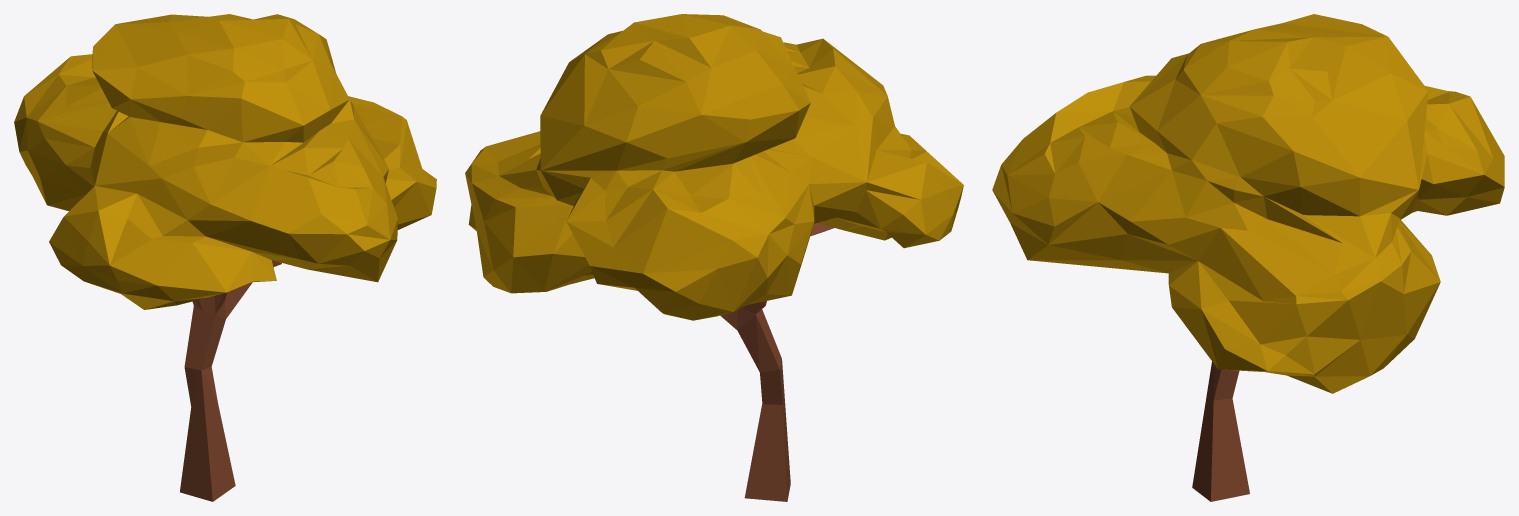
File: village_pack_tree1.glb
3 views of the same model, side by side, from view 1: azimuth 30°, elevation 25°; view 2: azimuth 150°, elevation 25°; view 3: azimuth 270°, elevation 25° (orthographic). The views are drawn at different scales.
Visible parts, largest first — view 1: tree 1_wood 1_0; view 2: tree 1_wood 1_0; view 3: tree 1_wood 1_0.
Part boxes in pixels (bbox=[...]): tree 1_wood 1_0: bbox=[14, 14, 436, 501]; tree 1_wood 1_0: bbox=[465, 14, 963, 501]; tree 1_wood 1_0: bbox=[992, 14, 1504, 501].
Size of the model in its own units: 11.84 by 12.21 by 12.01.
